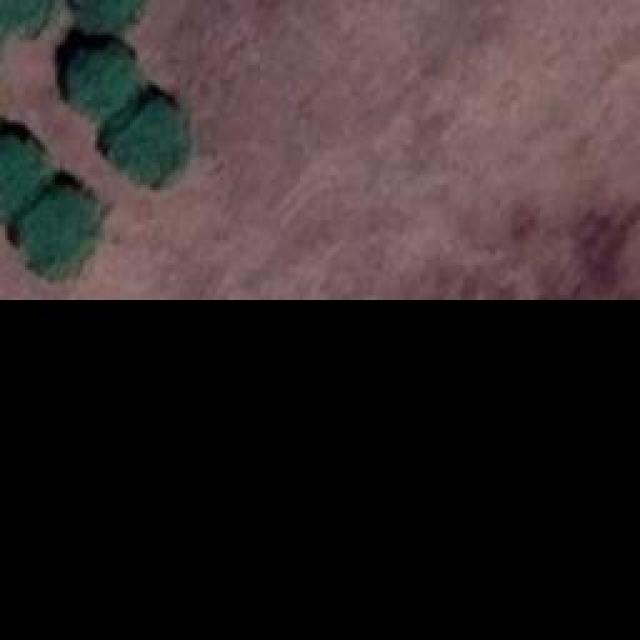Tree: (68, 40, 141, 125), (110, 105, 183, 188), (25, 188, 90, 271), (0, 135, 48, 210), (78, 0, 143, 28), (0, 0, 45, 32)
